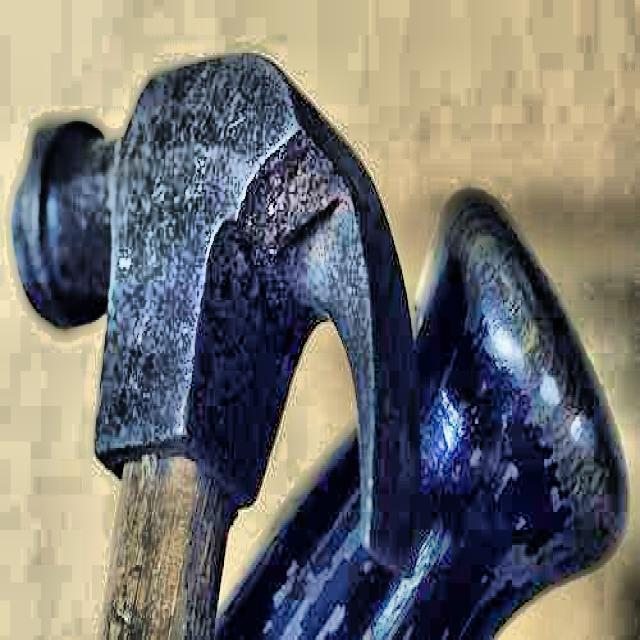hammer: (10, 46, 418, 636)
